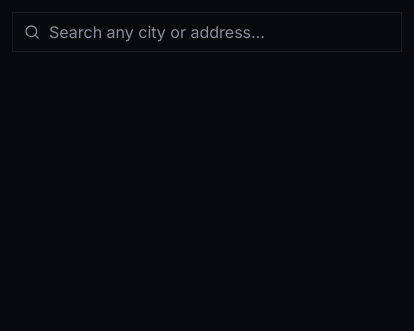
Test: LocationSearch › closes the dropdown on Escape
Focus the dropdown at (207, 32), box 12,12 -> 402,52
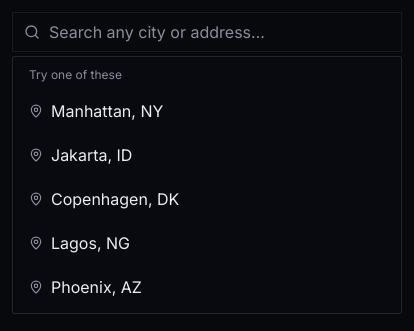
expect the list is shown: met
Press Escape in the dropdown, box 12,12 -> 402,52
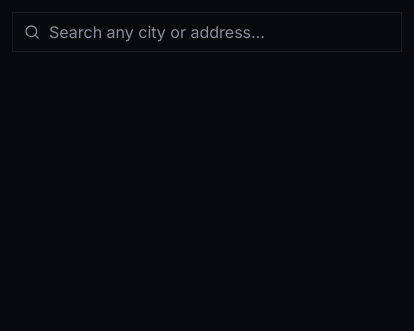
expect the list is gone: met
